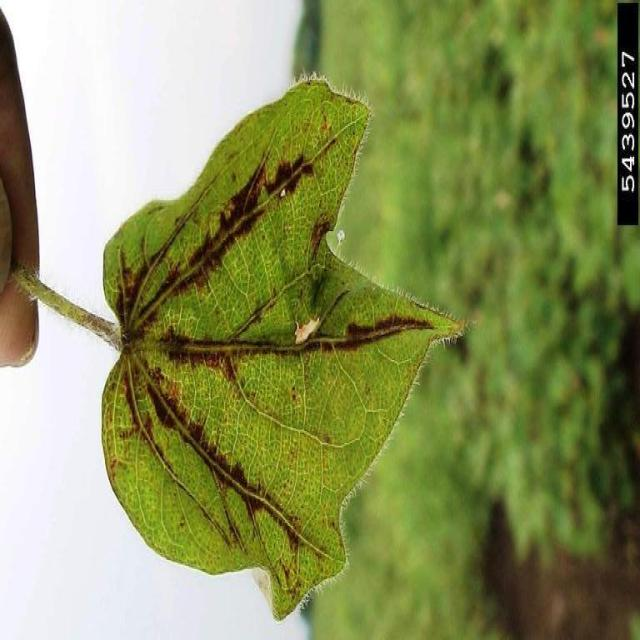Bacterial Blight: (128, 238, 332, 468)
